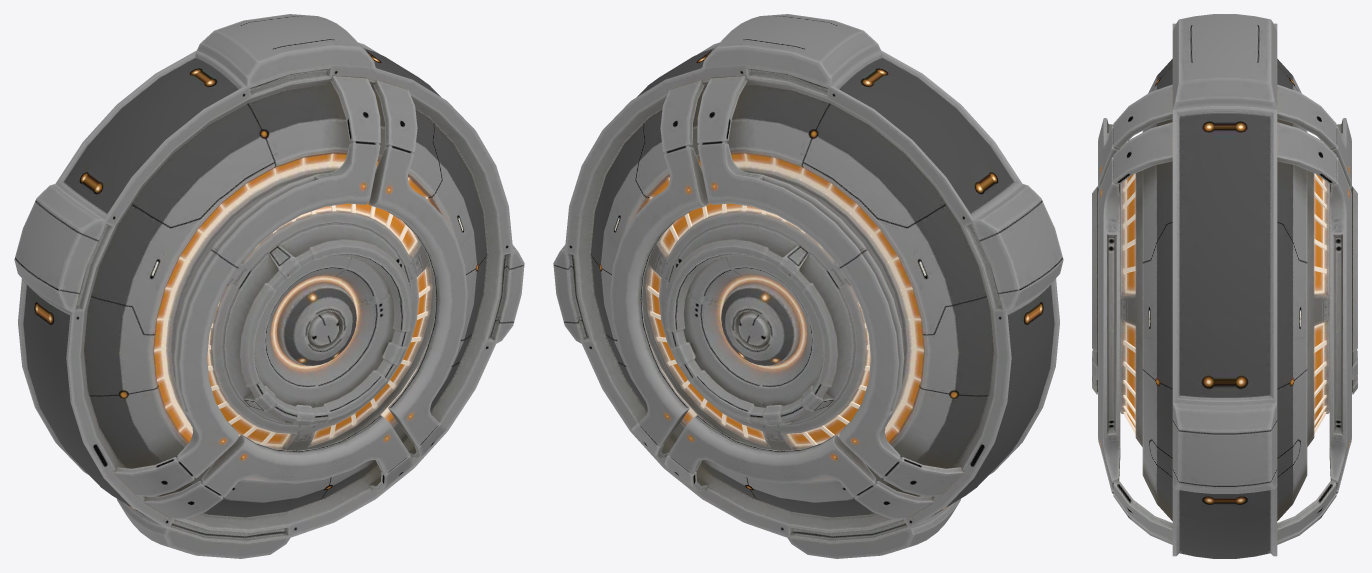
The model's file is PRP_PlasmaGlobe.glb.
3 views of the same model, side by side, from view 1: azimuth 30°, elevation 25°; view 2: azimuth 150°, elevation 25°; view 3: azimuth 270°, elevation 25° (orthographic). The views are drawn at different scales.
Visible parts, largest first — view 1: energy_core_1_low_Material_0; view 2: energy_core_1_low_Material_0; view 3: energy_core_1_low_Material_0.
Boxes of the visible parts, left/top/right/bottom form: energy_core_1_low_Material_0: left=14, top=14, right=524, bottom=558; energy_core_1_low_Material_0: left=553, top=14, right=1063, bottom=558; energy_core_1_low_Material_0: left=1092, top=14, right=1357, bottom=558.
Bounding box in the file's own units: 1.83 × 1.87 × 0.8547.
Materials: 1 (1 with a texture image).
